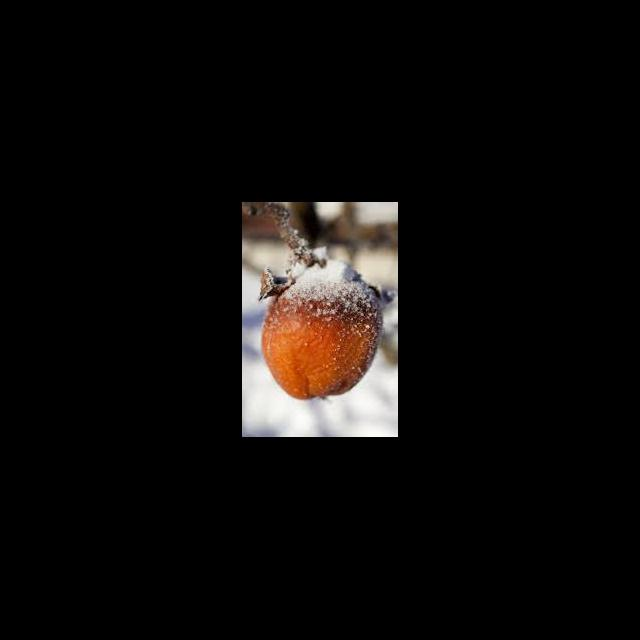food_waste: (255, 217, 394, 433)
